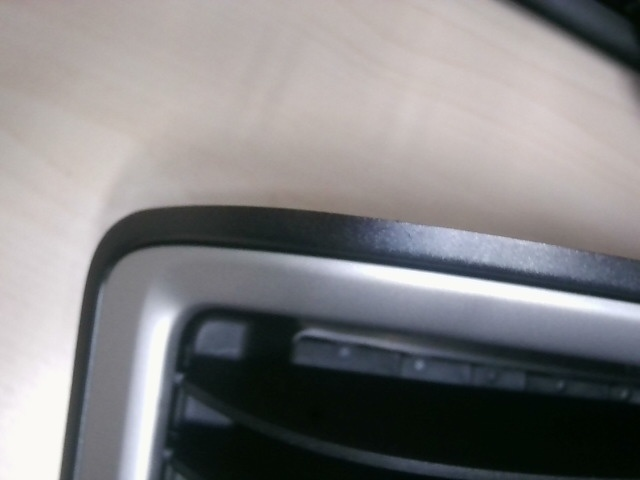NG: (383, 209, 424, 249)
